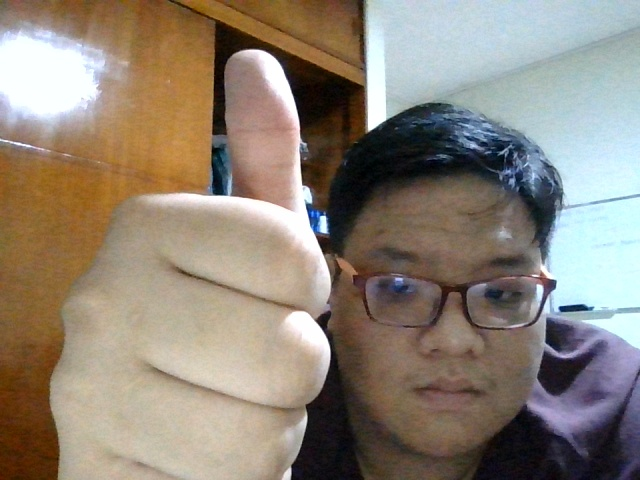si: (47, 40, 336, 479)
